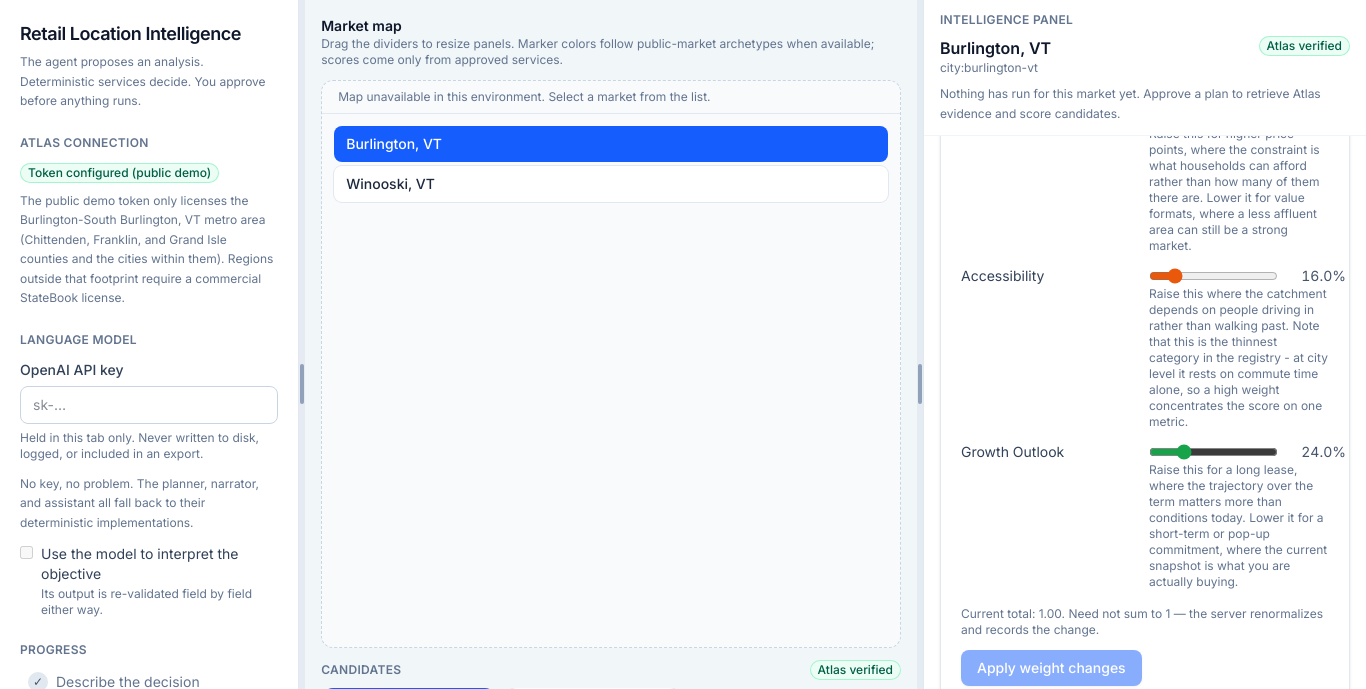
the approval gate, as the user sees it › lets the user change category weights on the plan itself before approving
This screenshot has width=1366, height=689.
(page scrolled)
Expected: the button "Apply weight changes" is disabled, [961, 650, 1142, 686]
# fireEvent is clearer than pointer math for a range input.
Step 1. Set the slider labelled "Growth Outlook" to "0.55" → (1219, 452), box [1149, 442, 1278, 462]
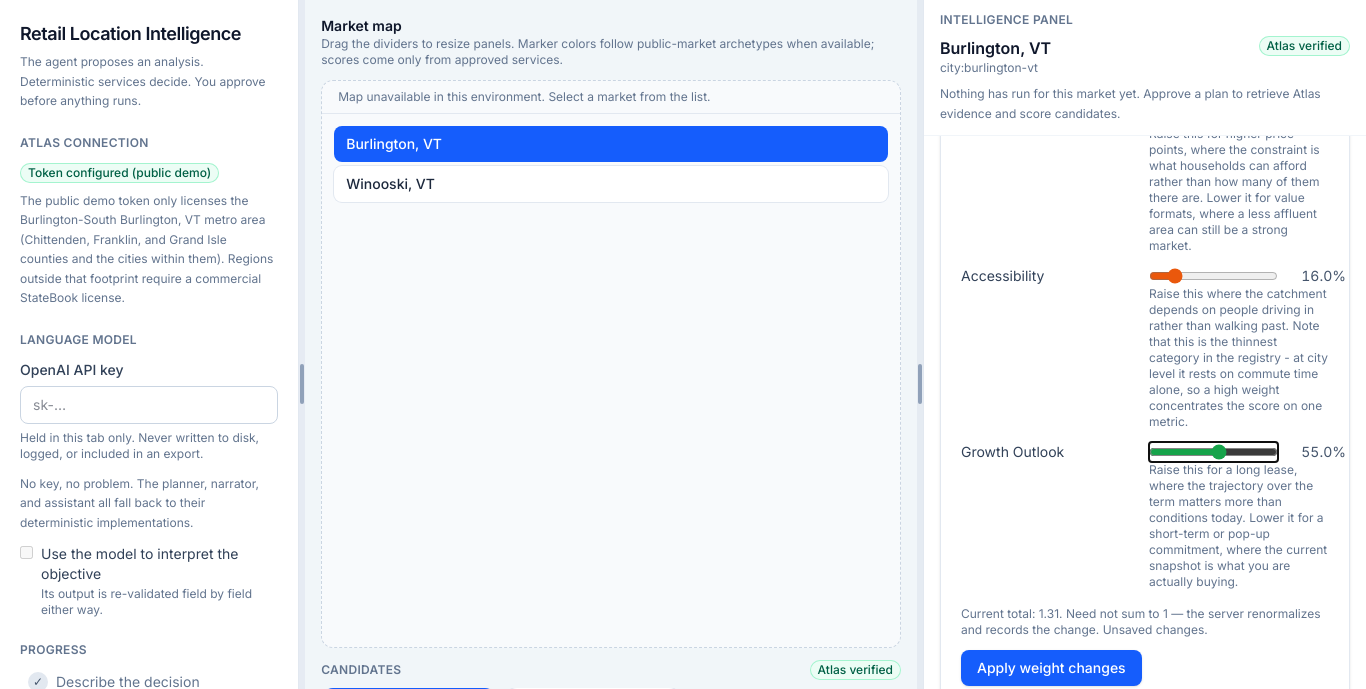
Result: the button "Apply weight changes" is enabled
Step 2. Click the button "Apply weight changes" → (1051, 668), box [961, 650, 1142, 686]
(page scrolled)
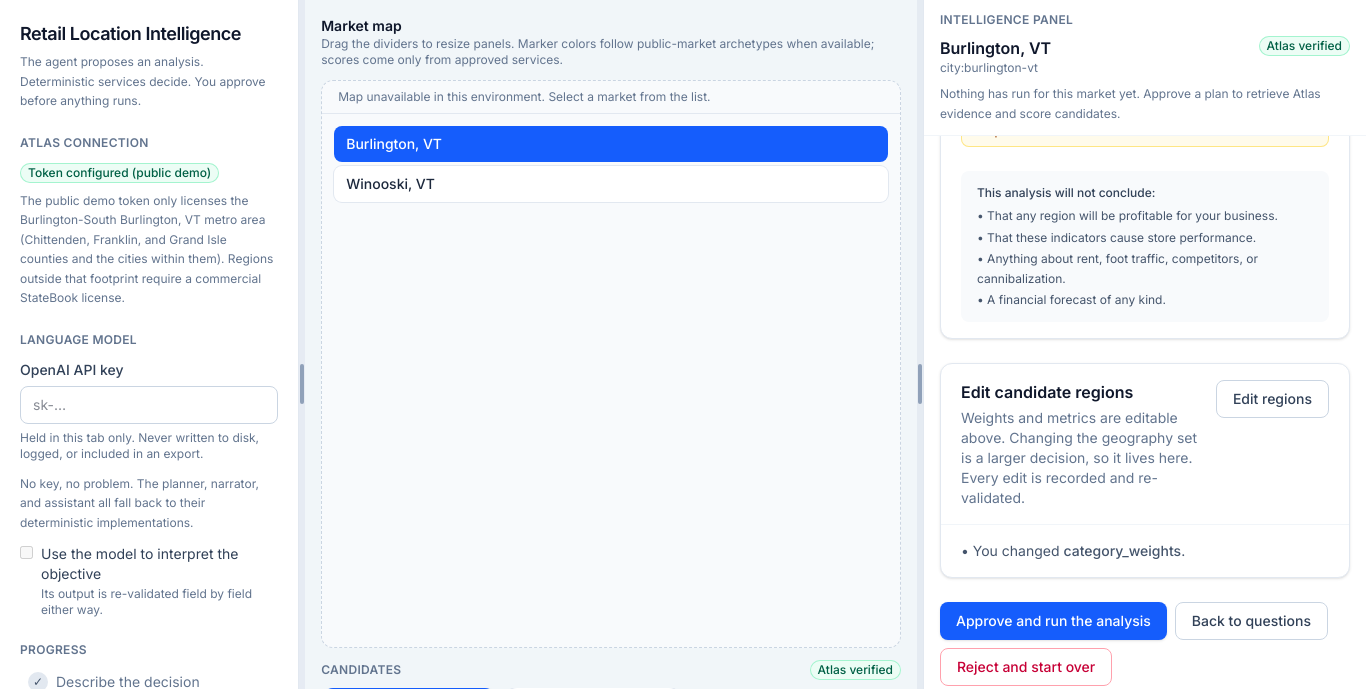
Result: the list item "• You changed category_weights." is shown at [961, 542, 1185, 558]
